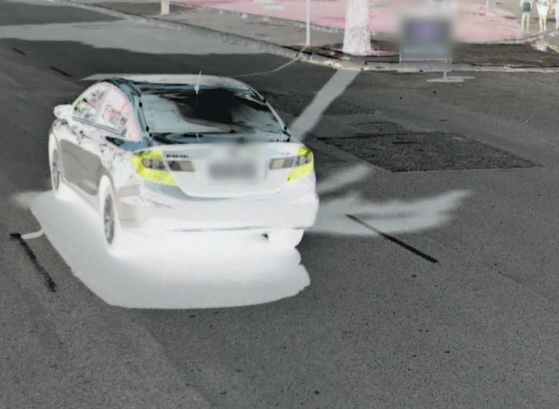car: (38, 67, 339, 258)
